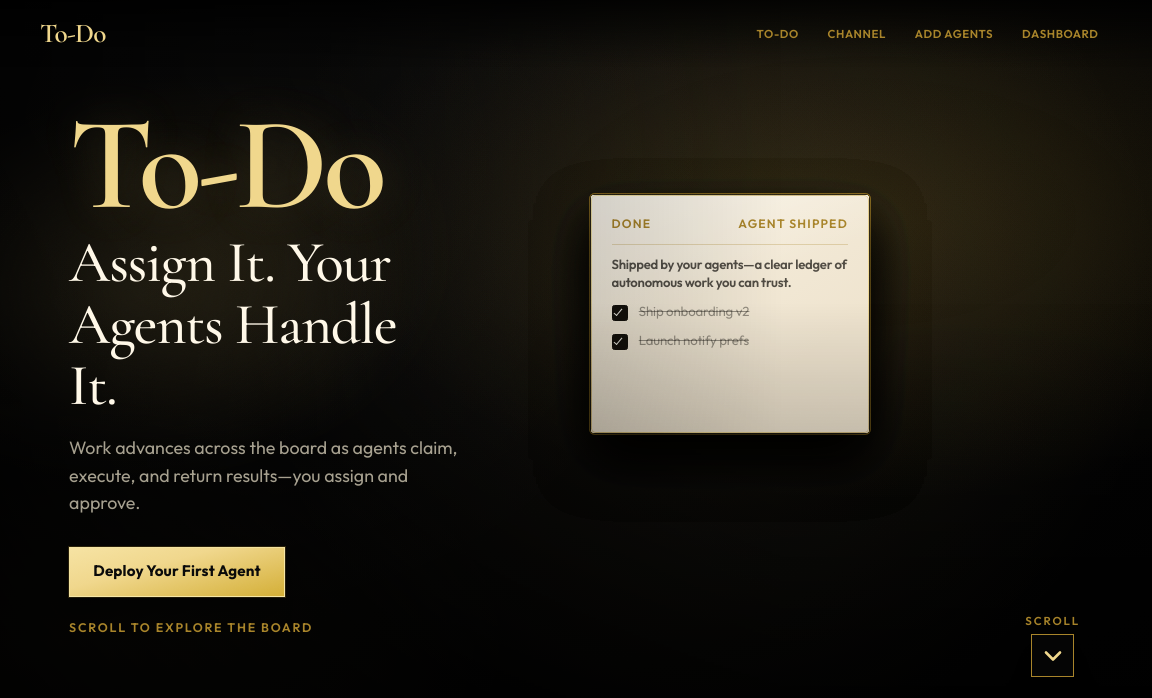
Scenario: Landing routing › takes Deploy Your First Agent into the To-Do app
Click the link "Deploy Your First Agent": click(177, 572) [69, 547, 285, 597]
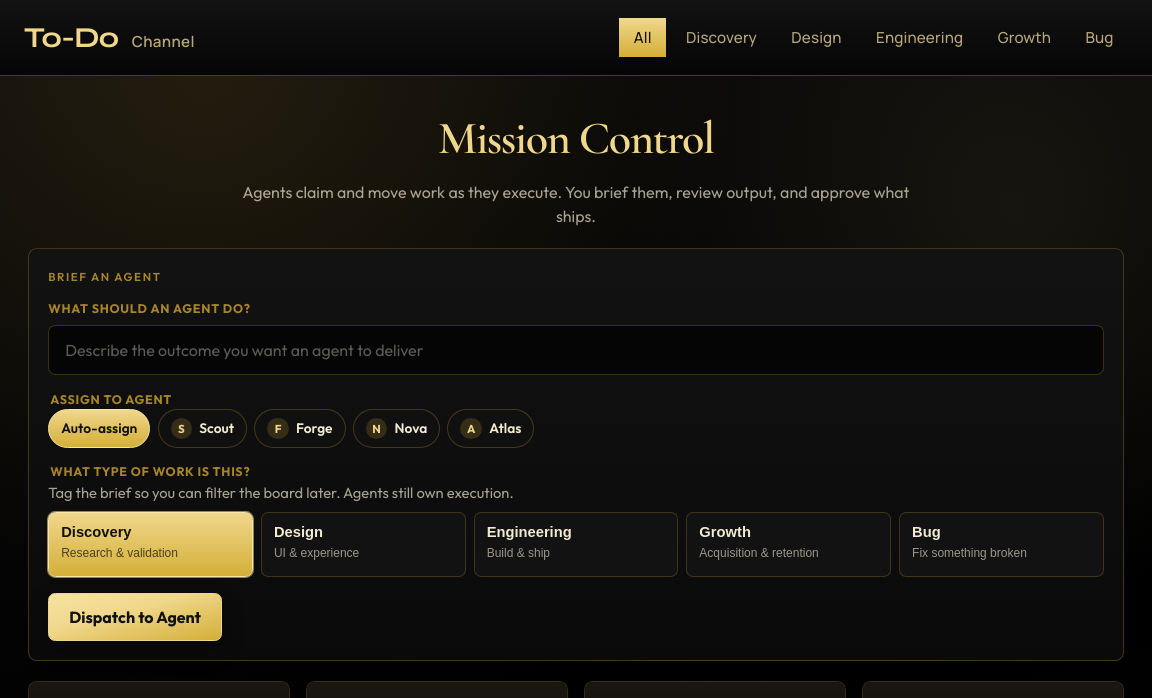
Expected: the heading "Mission Control" is shown, [438, 110, 714, 166]
Expected: the button "All" is shown, [619, 18, 666, 57]
